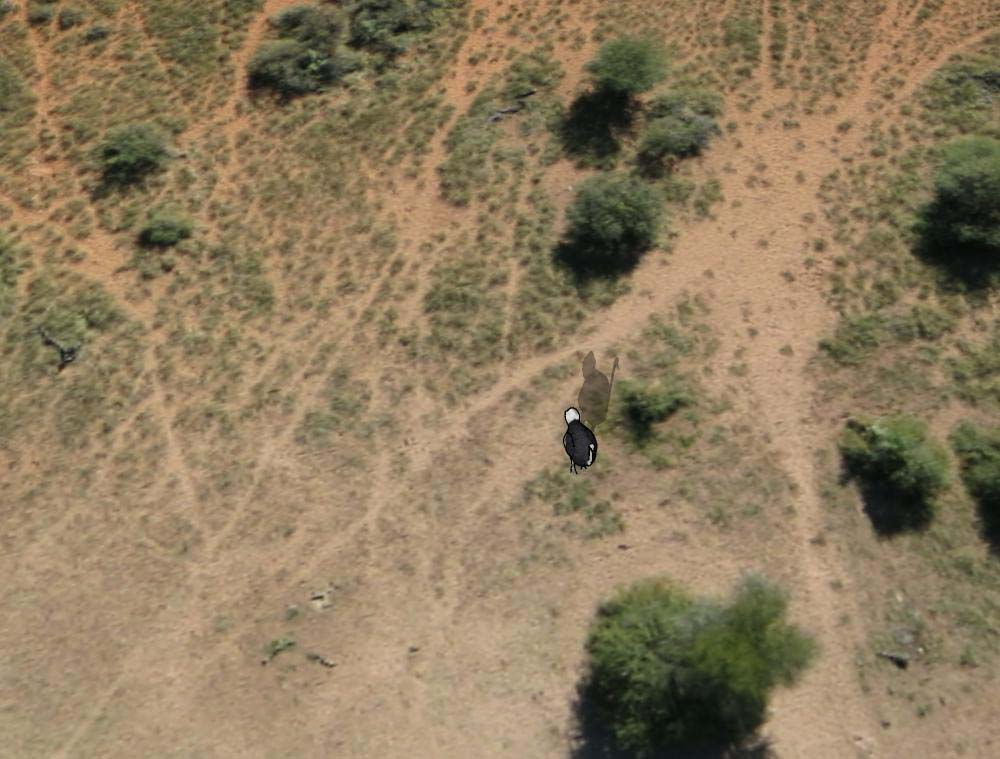springbok: (559, 406, 600, 480)
